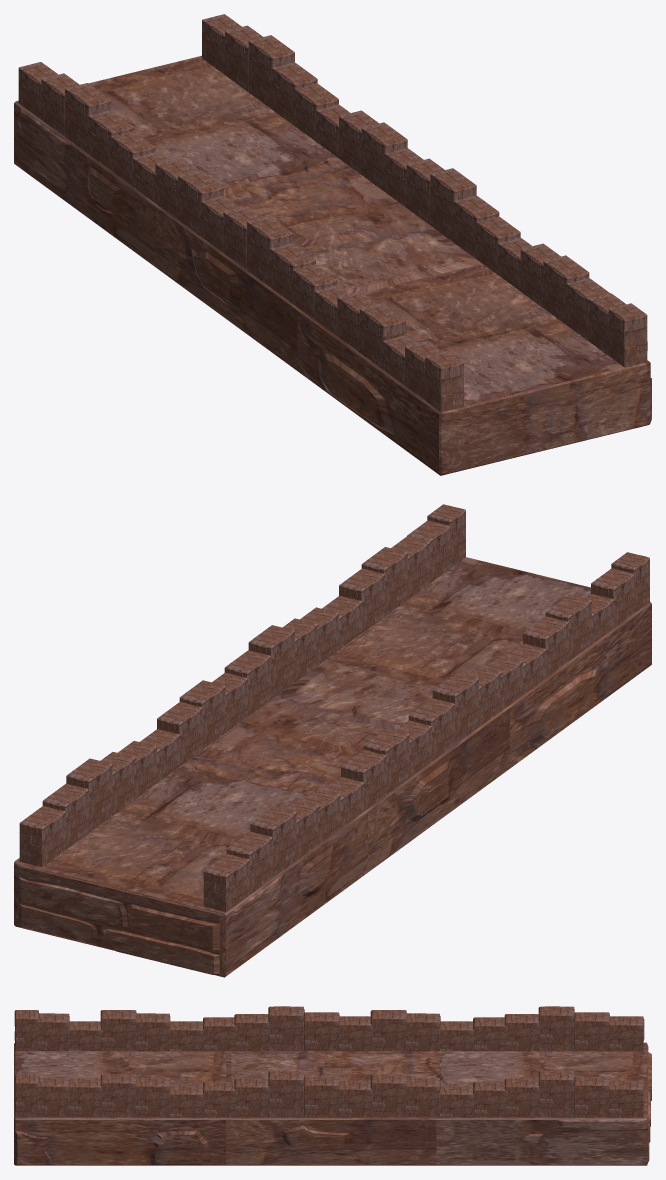
File: Ponte_Mediaa.fbx
3 renders of one model, top to bottom at view 1: azimuth 30°, elevation 25°; view 2: azimuth 150°, elevation 25°; view 3: azimuth 270°, elevation 25°, orthographic. The views are drawn at different scales.
Parts seen in each view (by area): view 1: pCube3, colunas63, colunas82, colunas18, colunas60, colunas74, colunas71, colunas79, colunas29, colunas55, colunas66, colunas20 (+27 smaller); view 2: pCube3, colunas17, colunas73, colunas18, colunas60, colunas71, colunas79, colunas28, colunas56, colunas55, colunas29, colunas67 (+27 smaller); view 3: pCube3, colunas18, colunas60, colunas71, colunas79, colunas55, colunas29, colunas74, colunas19, colunas61, colunas66, colunas56 (+27 smaller).
Boxes of the visible parts, bbox=[...] form: pCube3: bbox=[14, 55, 651, 475]; colunas63: bbox=[608, 303, 647, 367]; colunas82: bbox=[425, 351, 463, 412]; colunas18: bbox=[248, 35, 294, 108]; colunas60: bbox=[430, 168, 476, 241]; colunas74: bbox=[359, 303, 405, 368]; colunas71: bbox=[65, 83, 111, 153]; colunas79: bbox=[247, 216, 292, 286]; colunas29: bbox=[361, 122, 407, 191]; colunas55: bbox=[543, 255, 589, 324]; colunas66: bbox=[178, 170, 223, 236]; colunas20: bbox=[271, 62, 317, 124]; pCube3: bbox=[14, 557, 651, 977]; colunas17: bbox=[19, 806, 65, 866]; colunas73: bbox=[203, 854, 249, 911]; colunas18: bbox=[66, 758, 112, 832]; colunas60: bbox=[248, 625, 294, 699]; colunas71: bbox=[250, 806, 296, 877]; colunas79: bbox=[432, 673, 478, 744]; colunas28: bbox=[157, 702, 203, 765]; colunas56: bbox=[339, 568, 385, 632]; colunas55: bbox=[361, 547, 407, 616]; colunas29: bbox=[179, 680, 225, 749]; colunas67: bbox=[341, 750, 387, 811]; pCube3: bbox=[14, 1042, 651, 1165]; colunas18: bbox=[538, 1070, 574, 1117]; colunas60: bbox=[268, 1070, 304, 1117]; colunas71: bbox=[538, 1006, 574, 1051]; colunas79: bbox=[268, 1006, 304, 1051]; colunas55: bbox=[100, 1074, 136, 1117]; colunas29: bbox=[370, 1074, 406, 1117]; colunas74: bbox=[100, 1010, 136, 1051]; colunas19: bbox=[574, 1076, 609, 1117]; colunas61: bbox=[304, 1076, 339, 1117]; colunas66: bbox=[370, 1010, 406, 1051]; colunas56: bbox=[135, 1077, 170, 1117].
Bounding box in the file's own units: 3.34 × 1.7 × 11.41.
Materials: 2 (2 with a texture image).
